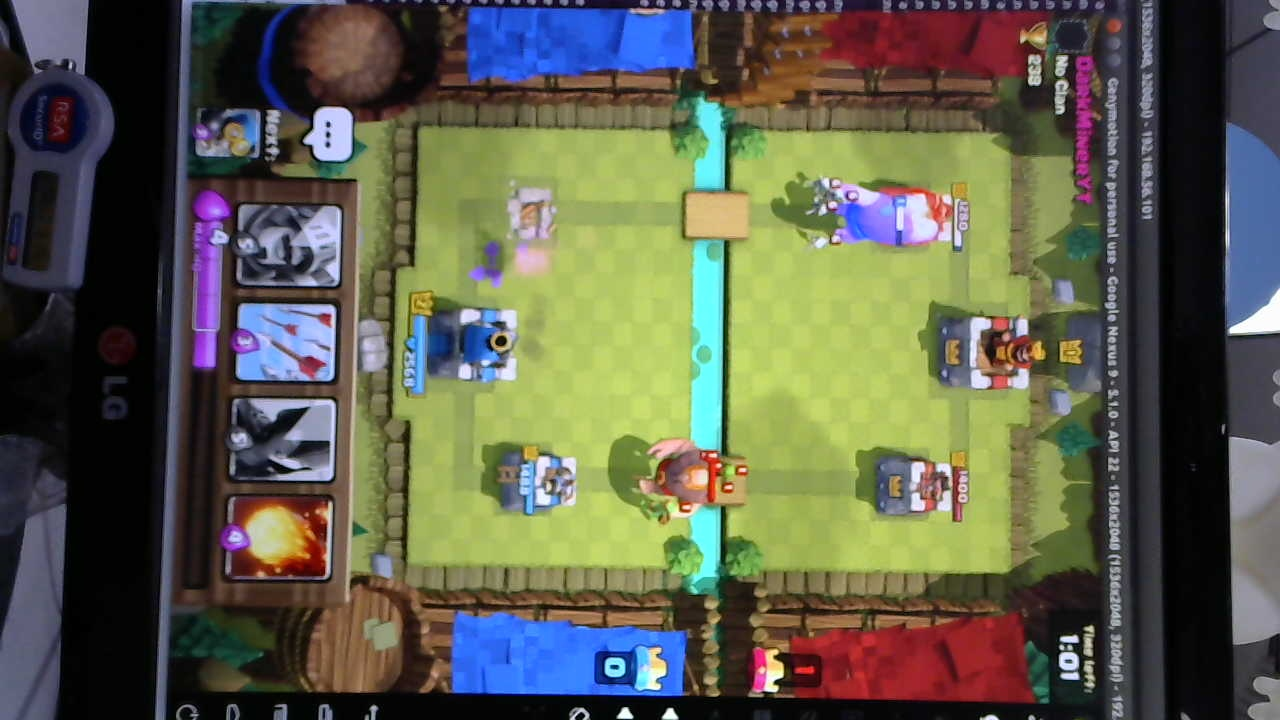arena: (501, 450, 581, 516)
darena: (505, 177, 561, 246)
earena: (872, 453, 952, 522), (872, 182, 955, 247)
eking: (937, 313, 1039, 393)
giant: (834, 178, 933, 248), (642, 435, 712, 524)
goblin: (717, 460, 741, 491)
king: (431, 302, 524, 388)
skeleton: (807, 176, 852, 251)
speargoblin: (643, 500, 682, 532)
